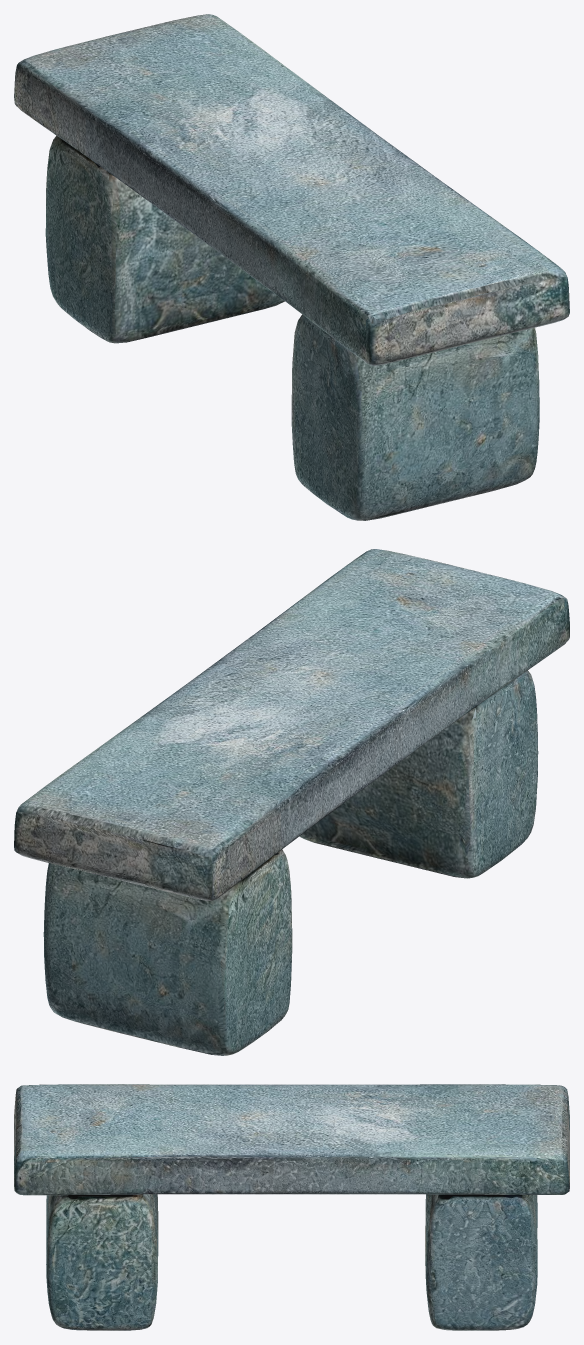
Rendered from stonebench.glb.
The picture shows the model from 3 angles, top to bottom: view 1: azimuth 30°, elevation 25°; view 2: azimuth 150°, elevation 25°; view 3: azimuth 270°, elevation 25°; orthographic projection. The views are drawn at different scales.
Parts seen in each view (by area): view 1: stonebench; view 2: stonebench; view 3: stonebench.
Boxes of the visible parts, box(x1,y1,x2,y2) form: stonebench: box(14, 14, 569, 520); stonebench: box(14, 549, 569, 1055); stonebench: box(14, 1084, 569, 1330).
Bounding box in the file's own units: 0.3214 × 0.3596 × 1.
Materials: 1 (1 with a texture image).
